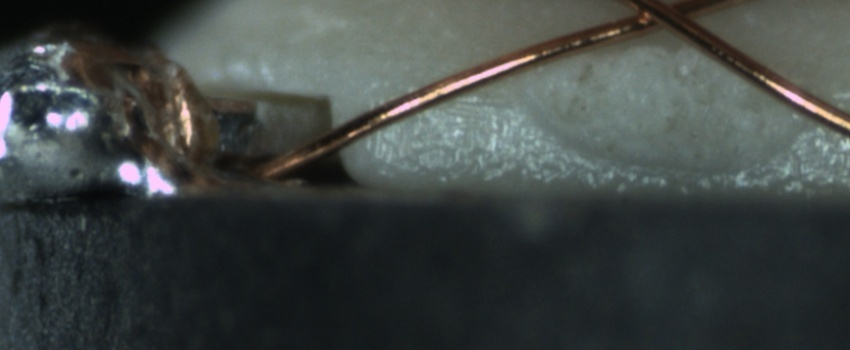CL: (618, 0, 710, 33)
DL: (374, 81, 508, 120)
TE: (152, 35, 224, 174)
